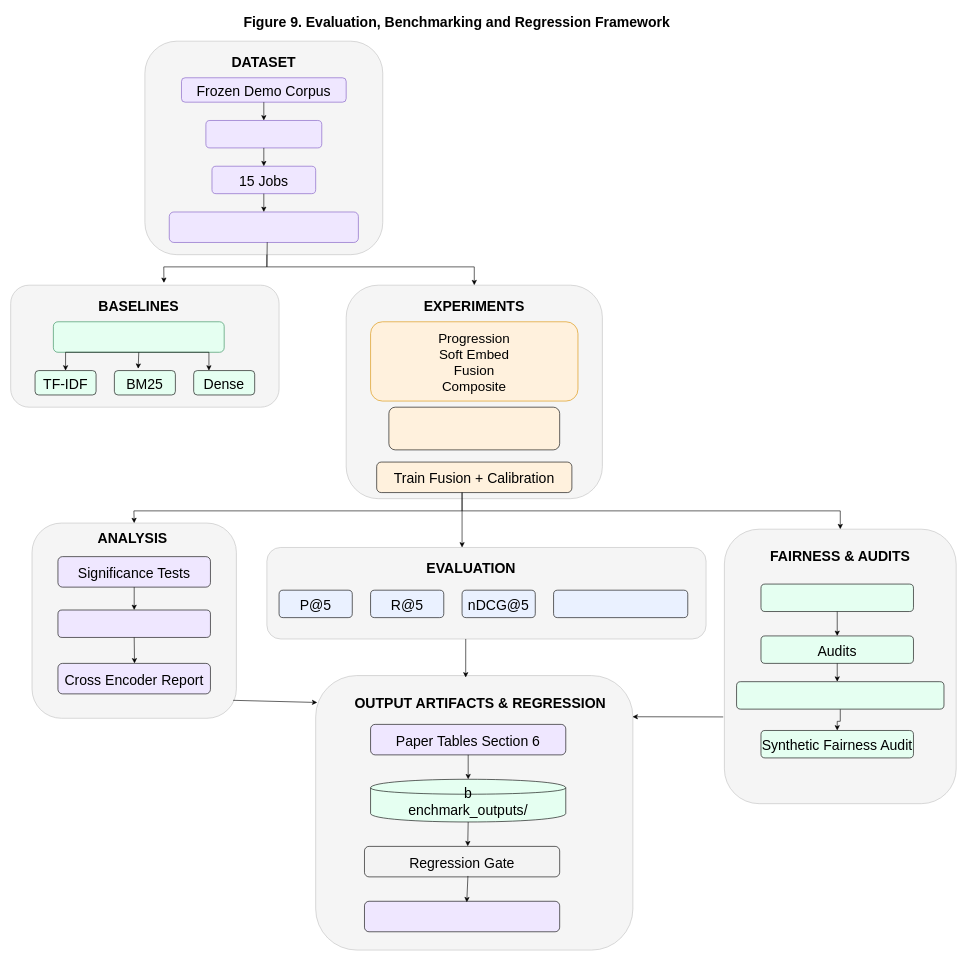
Some shapes in this 967 by 961 pixel diagram are drawn without their labels. The shapes that lost their labels are listed below. From the top down, each one's centre as x and y in pixels, then its label:
At pixel 263 134: "30 Resumes".
At pixel 263 226: "47 Graded Relevance Pairs".
At pixel 138 336: "Benchmark Drivers".
At pixel 474 428: "Ablations Hard Negatives".
At pixel 620 604: "Latency ms/query".
At pixel 836 597: "Negative Mining".
At pixel 133 623: "Explainability Eval".
At pixel 840 695: "Hard Negative Label Check".
At pixel 462 916: "expected baselines JSON".
